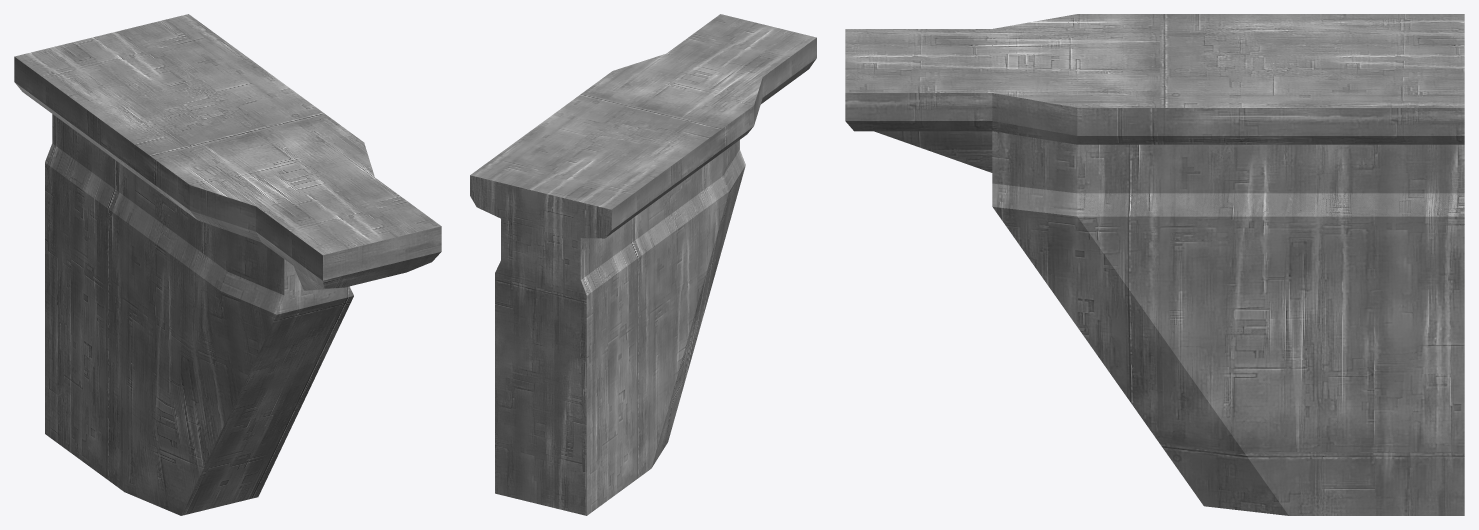
The model's file is Bridge_02.fbx.
3 views of the same model, side by side, from view 1: azimuth 30°, elevation 25°; view 2: azimuth 150°, elevation 25°; view 3: azimuth 270°, elevation 25° (orthographic). The views are drawn at different scales.
Parts seen in each view (by area): view 1: Bridge_02; view 2: Bridge_02; view 3: Bridge_02.
Part boxes in pixels (bbox=[...]): Bridge_02: bbox=[14, 14, 441, 515]; Bridge_02: bbox=[470, 14, 816, 515]; Bridge_02: bbox=[845, 14, 1464, 515].
Size of the model in its own units: 1470 by 3100 by 4100.
